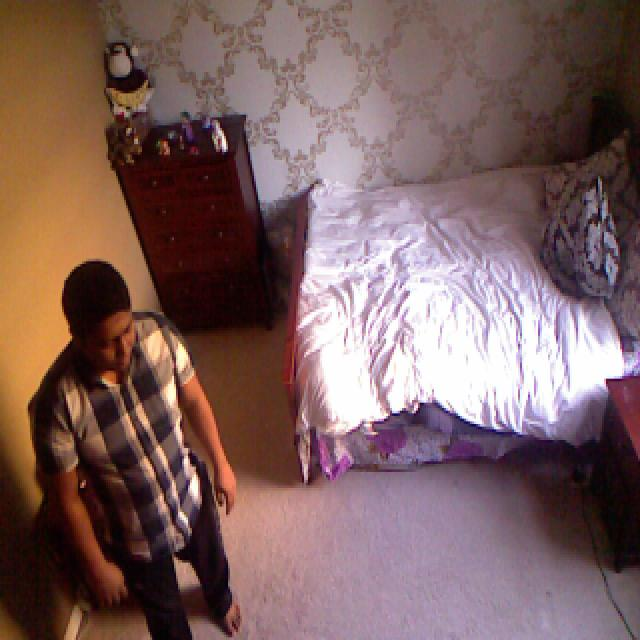standing: (32, 245, 264, 640)
